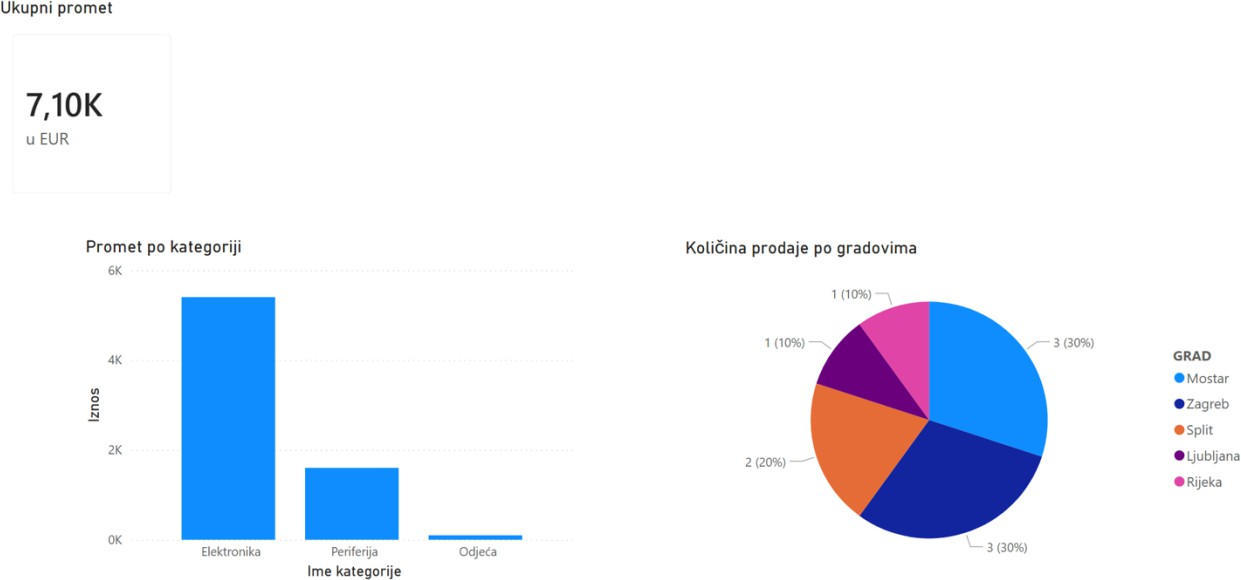

Layout of this report page (visuals, bound fields, positions):
{"tool":"powerbi","page":{"name":"Page 1","canvas":[1280,720],"ordinal":0},"visuals":[{"type":"cardVisual","fields":{"Data":["Sum(ecommerce_oltp fact_sales.total_price)"]},"box":[10.2,0,190.5,209.7],"z":0},{"type":"clusteredColumnChart","fields":{"Category":["ecommerce_oltp dim_categories.category_name"],"Y":["Sum(ecommerce_oltp fact_sales.total_price)"]},"box":[93.3,248.1,489.8,340.1],"z":1000},{"type":"pieChart","fields":{"Category":["ecommerce_oltp dim_locations.city"],"Y":["Sum(ecommerce_oltp fact_sales.quantity)"]},"box":[679,248.1,561.4,340.1],"z":2000}]}

Visuals, with their boxes on the page's 1280x720 design canvas (x1, y1, x2, y2). These are canvas units, not pixel positions in the 1241x580 screenshot, which may show the page scaled, cropped or inside an application window:
cardVisual - Sum(ecommerce_oltp fact_sales.total_price): box(10, 0, 201, 210)
clusteredColumnChart - ecommerce_oltp dim_categories.category_name x Sum(ecommerce_oltp fact_sales.total_price): box(93, 248, 583, 588)
pieChart - ecommerce_oltp dim_locations.city x Sum(ecommerce_oltp fact_sales.quantity): box(679, 248, 1240, 588)
